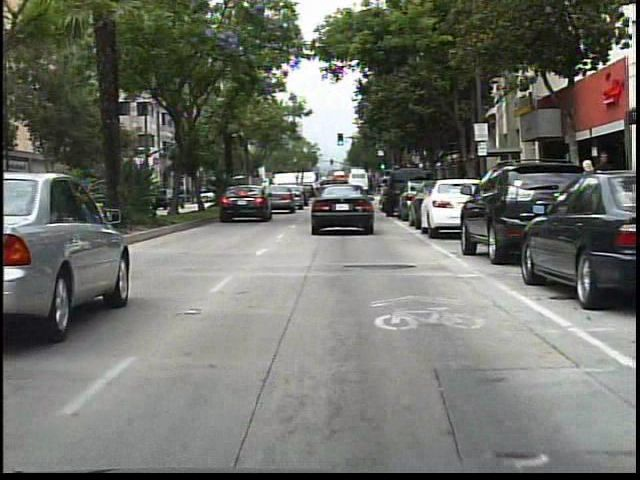person: (592, 151, 618, 226), (570, 154, 598, 222)
